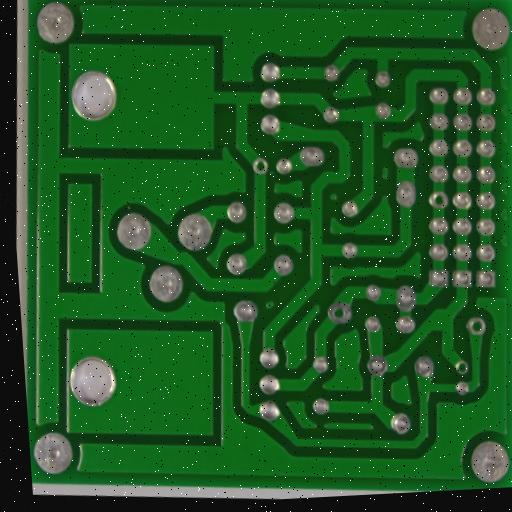missing_hole: (322, 298, 357, 330), (426, 187, 452, 213), (248, 155, 273, 178), (464, 317, 488, 339), (451, 356, 471, 379)
